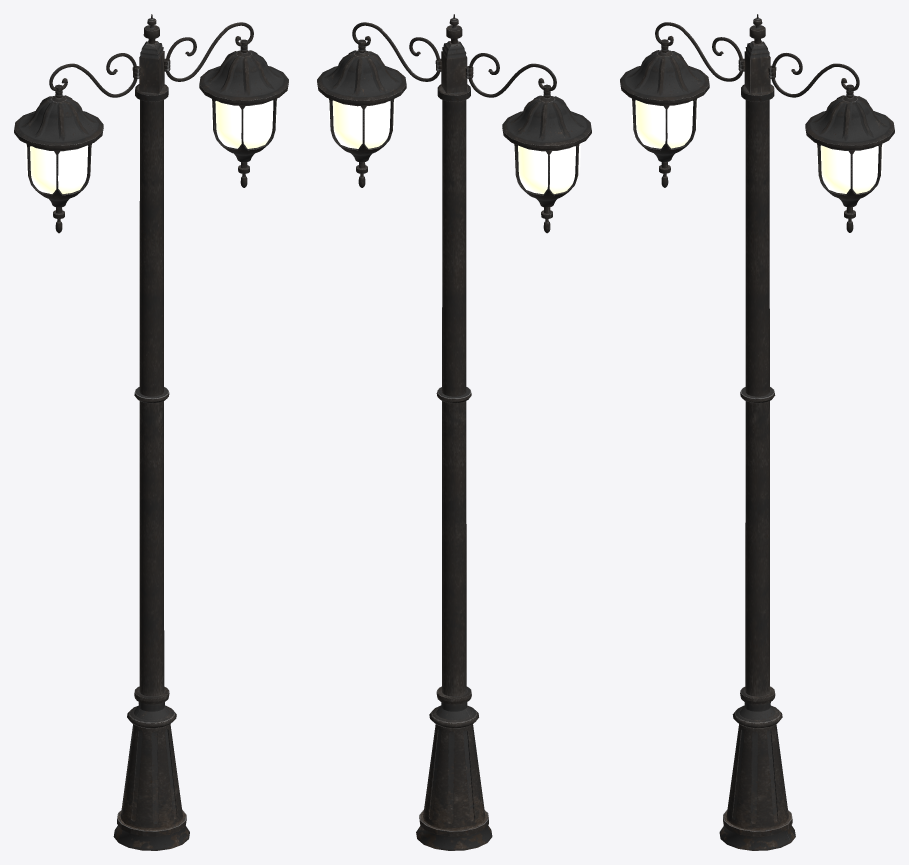
File: light_post.glb
The picture shows the model from 3 angles, left to right: view 1: azimuth 30°, elevation 25°; view 2: azimuth 150°, elevation 25°; view 3: azimuth 330°, elevation 25°; orthographic projection.
Parts seen in each view (by area): view 1: Post_Metal_M_0, Inners_Material #48_0; view 2: Post_Metal_M_0, Inners_Material #48_0; view 3: Post_Metal_M_0, Inners_Material #48_0.
Part boxes in pixels (x1=…): Post_Metal_M_0: x1=14, y1=14, x2=288, y2=850; Inners_Material #48_0: x1=25, y1=98, x2=277, y2=193; Post_Metal_M_0: x1=317, y1=14, x2=591, y2=850; Inners_Material #48_0: x1=328, y1=98, x2=580, y2=194; Post_Metal_M_0: x1=620, y1=14, x2=894, y2=850; Inners_Material #48_0: x1=631, y1=98, x2=883, y2=193.
Bounding box in the file's own units: 31.34 × 93.24 × 9.28.
Materials: 2 (1 with a texture image).
